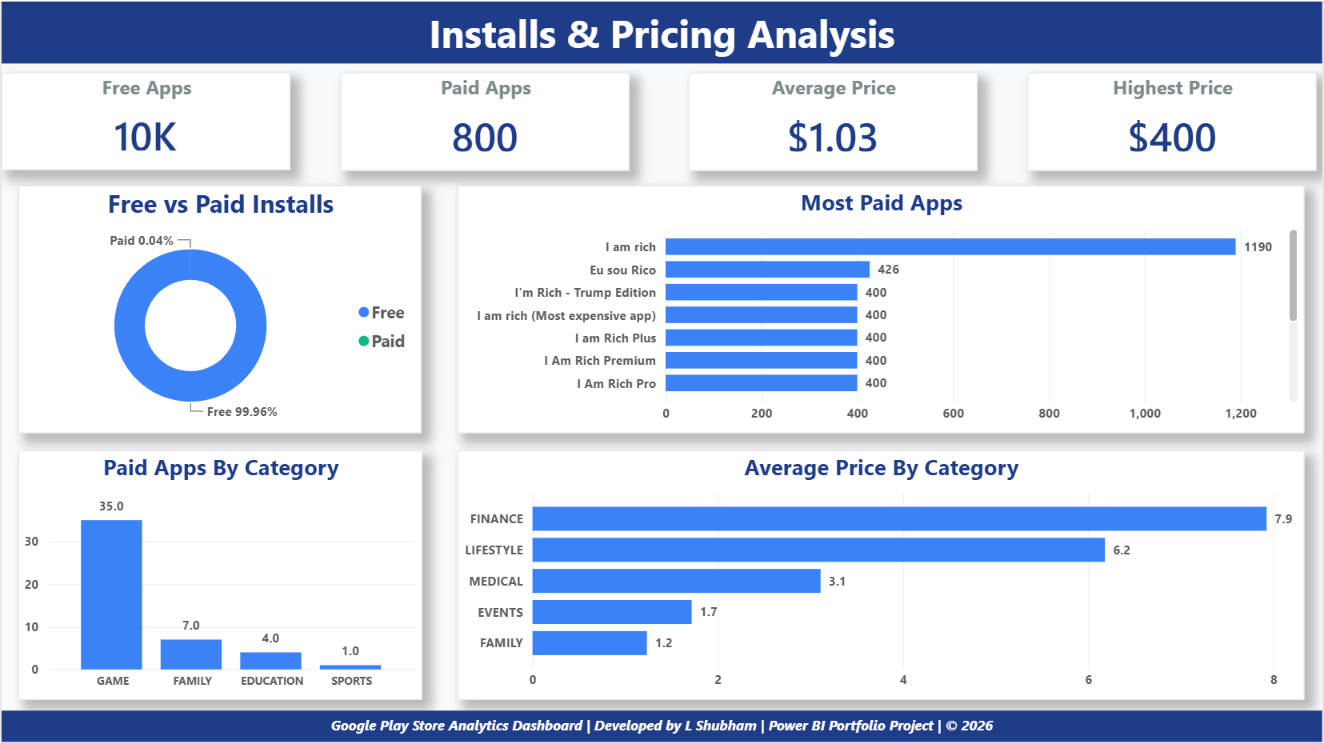

The dashboard page shown, as its layout file describes it:
{"tool":"powerbi","page":{"name":"Installs and Pricing Analysis","canvas":[1280,720],"ordinal":2},"visuals":[{"type":"textbox","box":[0,0,1280.3,60],"z":0},{"type":"cardVisual","title":"Free Apps","fields":{"Data":["Measures .Free Apps"]},"box":[0,68.6,279.9,94.7],"z":1000},{"type":"cardVisual","title":"Paid Apps","fields":{"Data":["Measures .Paid Apps"]},"box":[328.3,68.7,280,95],"z":2000},{"type":"cardVisual","title":"Highest Price","fields":{"Data":["Measures .Highest Price"]},"box":[994.6,68.7,280,95],"z":3000},{"type":"cardVisual","title":"Average Price","fields":{"Data":["Measures .Average Price"]},"box":[665.5,68.7,280,95],"z":4000},{"type":"donutChart","title":"Free vs Paid Installs","fields":{"Category":["Apps.Type"],"Y":["Sum(Apps.Installs)"]},"box":[16.5,178.4,390,240],"z":5000},{"type":"clusteredBarChart","title":"Most Paid Apps ","fields":{"Y":["Sum(Apps.Price)"],"Category":["Apps.App"]},"box":[441.9,178.4,820.6,240.1],"z":6000},{"type":"clusteredBarChart","title":"Average Price By Category","fields":{"Category":["Apps.Category"],"Y":["Avg(Apps.Price)"]},"box":[441.9,435,820.6,241.5],"z":7000},{"type":"clusteredColumnChart","title":"Paid Apps By Category","fields":{"Category":["Apps.Category"],"Y":["CountNonNull(Apps.App)"]},"box":[16.5,435,391.1,241.5],"z":8000},{"type":"textbox","box":[0,687.5,1280.3,30],"z":8001}]}

Visuals, with their boxes in screenshot pixels (x1, y1, x2, y2), scaled from the page's 1280x720 canvas onto the 1324x743 screenshot:
textbox: <region>0, 0, 1323, 62</region>
"Free Apps" cardVisual: <region>0, 71, 290, 169</region>
"Paid Apps" cardVisual: <region>340, 71, 629, 169</region>
"Highest Price" cardVisual: <region>1029, 71, 1318, 169</region>
"Average Price" cardVisual: <region>688, 71, 978, 169</region>
"Free vs Paid Installs" donutChart: <region>17, 184, 420, 432</region>
"Most Paid Apps " clusteredBarChart: <region>457, 184, 1306, 432</region>
"Average Price By Category" clusteredBarChart: <region>457, 449, 1306, 698</region>
"Paid Apps By Category" clusteredColumnChart: <region>17, 449, 422, 698</region>
textbox: <region>0, 709, 1323, 740</region>
